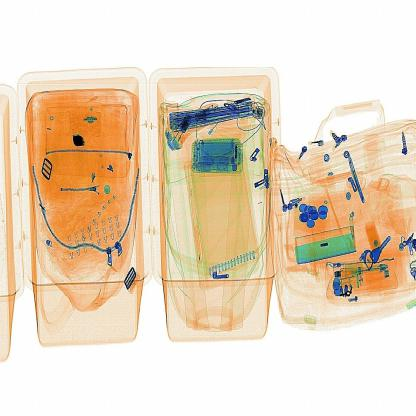scissors: (70, 127, 99, 158)
